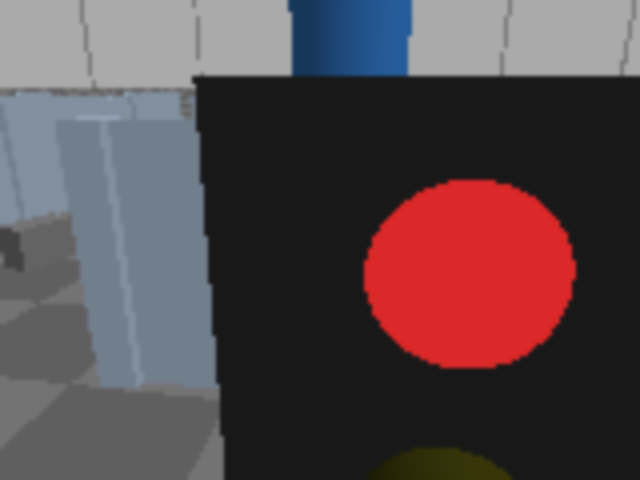obstacle: (0, 213, 79, 272)
traffic_light: (186, 0, 638, 478)
